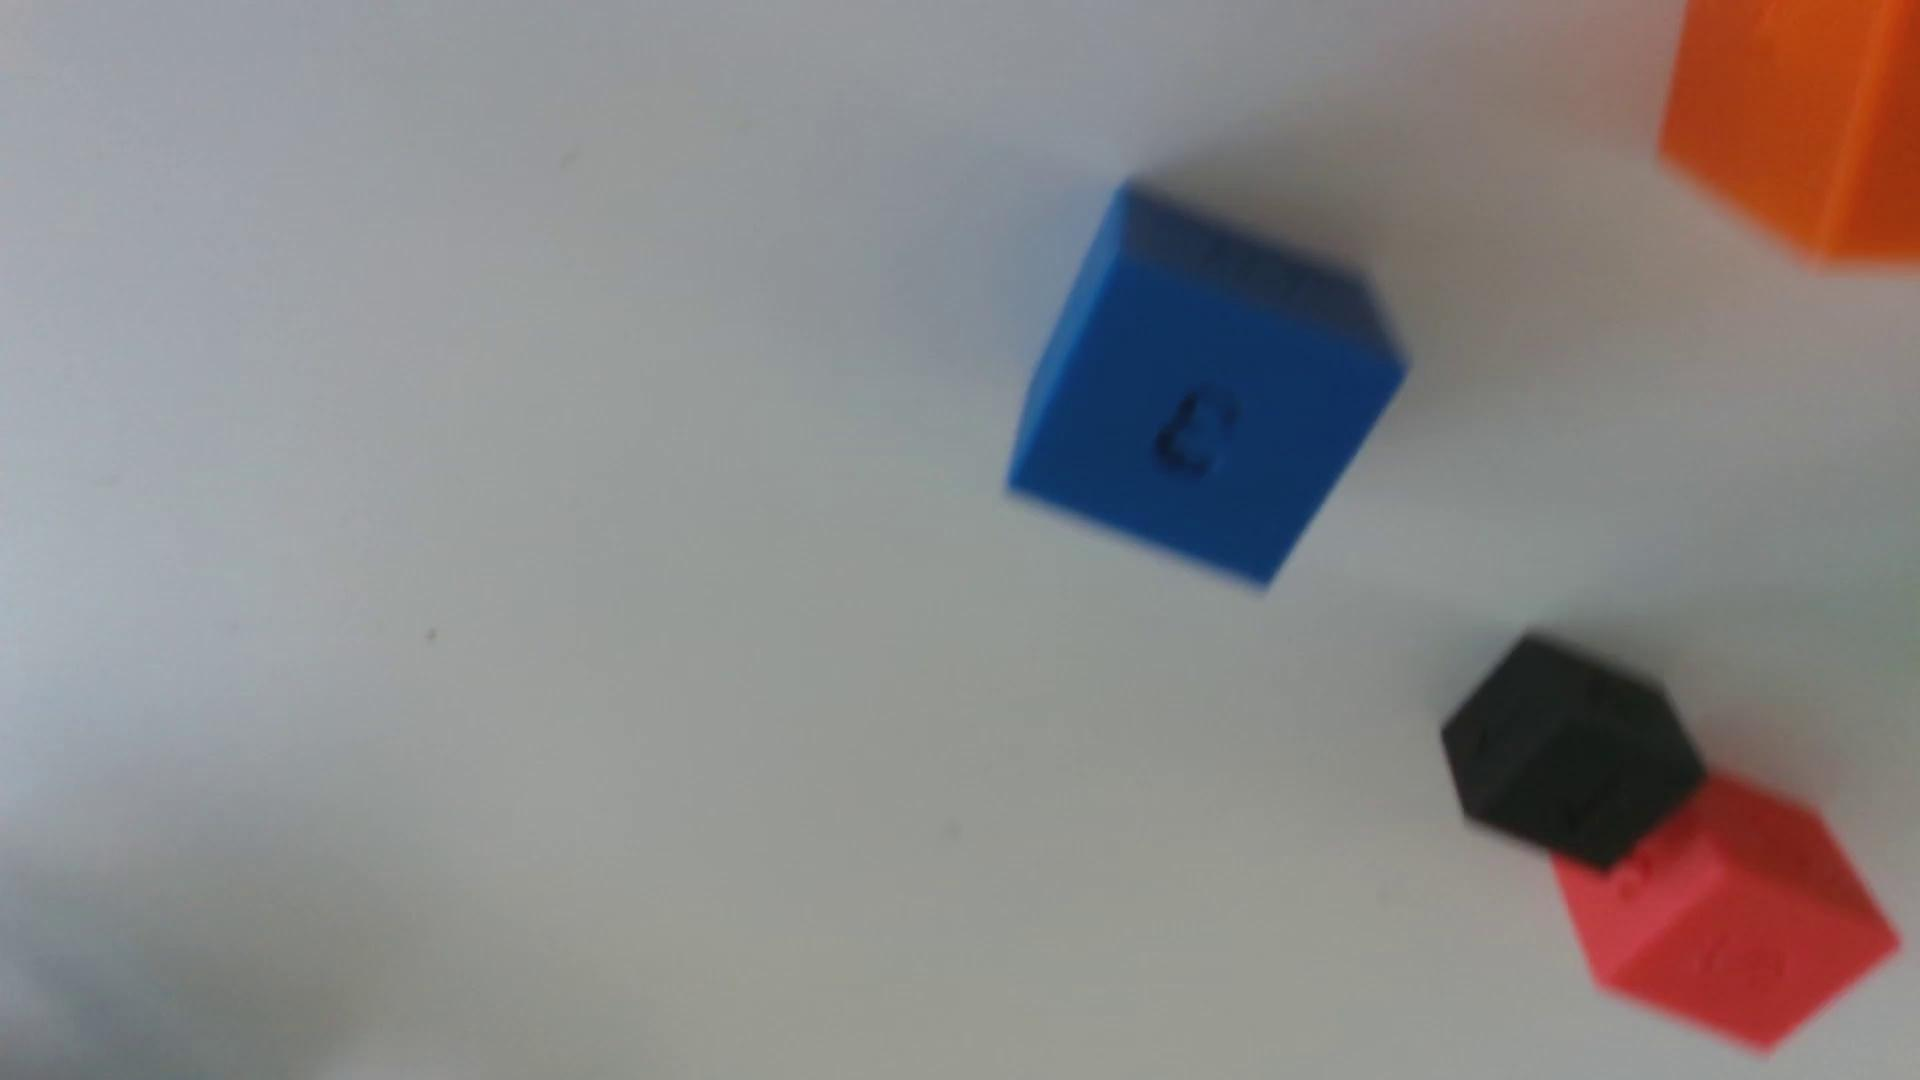black: (1440, 634, 1705, 870)
blue: (1007, 186, 1406, 585)
orange: (1659, 0, 1920, 268)
red: (1552, 770, 1899, 1051)
